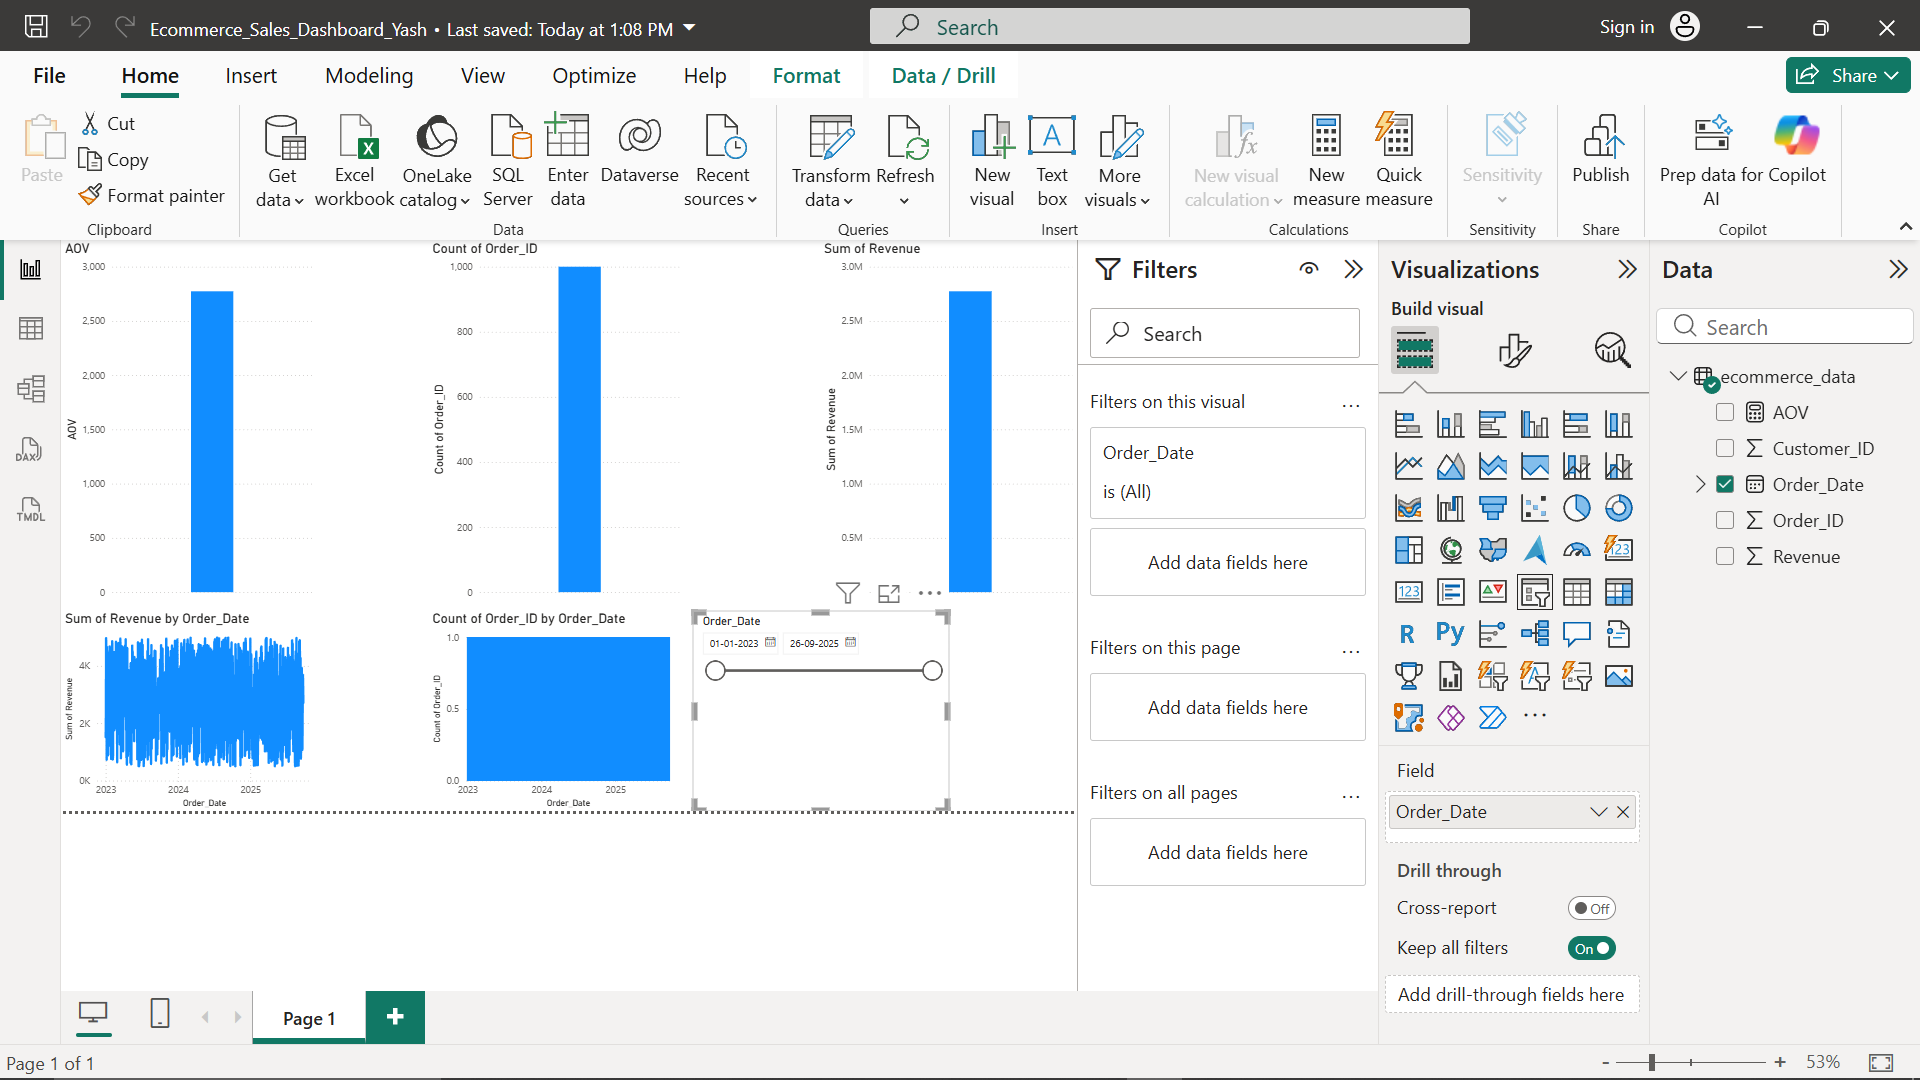

Layout of this report page (visuals, bound fields, positions):
{"tool":"powerbi","page":{"name":"Page 1","canvas":[1280,720],"ordinal":0},"visuals":[{"type":"clusteredColumnChart","fields":{"Y":["Sum(ecommerce_data.Revenue)"]},"box":[956.2,0,323.2,457.3],"z":0},{"type":"clusteredColumnChart","fields":{"Y":["CountNonNull(ecommerce_data.Order_ID)"]},"box":[463,0,323.2,457.3],"z":1},{"type":"clusteredColumnChart","fields":{"Y":["ecommerce_data.AOV"]},"box":[0,0,323.2,457.3],"z":2},{"type":"lineChart","fields":{"Category":["ecommerce_data.Order_Date"],"Y":["Sum(ecommerce_data.Revenue)"]},"box":[0,467,323,253],"z":3},{"type":"clusteredColumnChart","fields":{"Category":["ecommerce_data.Order_Date"],"Y":["CountNonNull(ecommerce_data.Order_ID)"]},"box":[463,467,323,253],"z":4},{"type":"slicer","fields":{"Values":["ecommerce_data.Order_Date"]},"box":[796,467,323,253],"z":5}]}

Visuals, with their boxes on the page's 1280x720 design canvas (x1, y1, x2, y2). These are canvas units, not pixel positions in the 1920x1080 screenshot, which may show the page scaled, cropped or inside an application window:
clusteredColumnChart - Sum(ecommerce_data.Revenue): bbox(956, 0, 1279, 457)
clusteredColumnChart - CountNonNull(ecommerce_data.Order_ID): bbox(463, 0, 786, 457)
clusteredColumnChart - ecommerce_data.AOV: bbox(0, 0, 323, 457)
lineChart - ecommerce_data.Order_Date x Sum(ecommerce_data.Revenue): bbox(0, 467, 323, 720)
clusteredColumnChart - ecommerce_data.Order_Date x CountNonNull(ecommerce_data.Order_ID): bbox(463, 467, 786, 720)
slicer - ecommerce_data.Order_Date: bbox(796, 467, 1119, 720)
